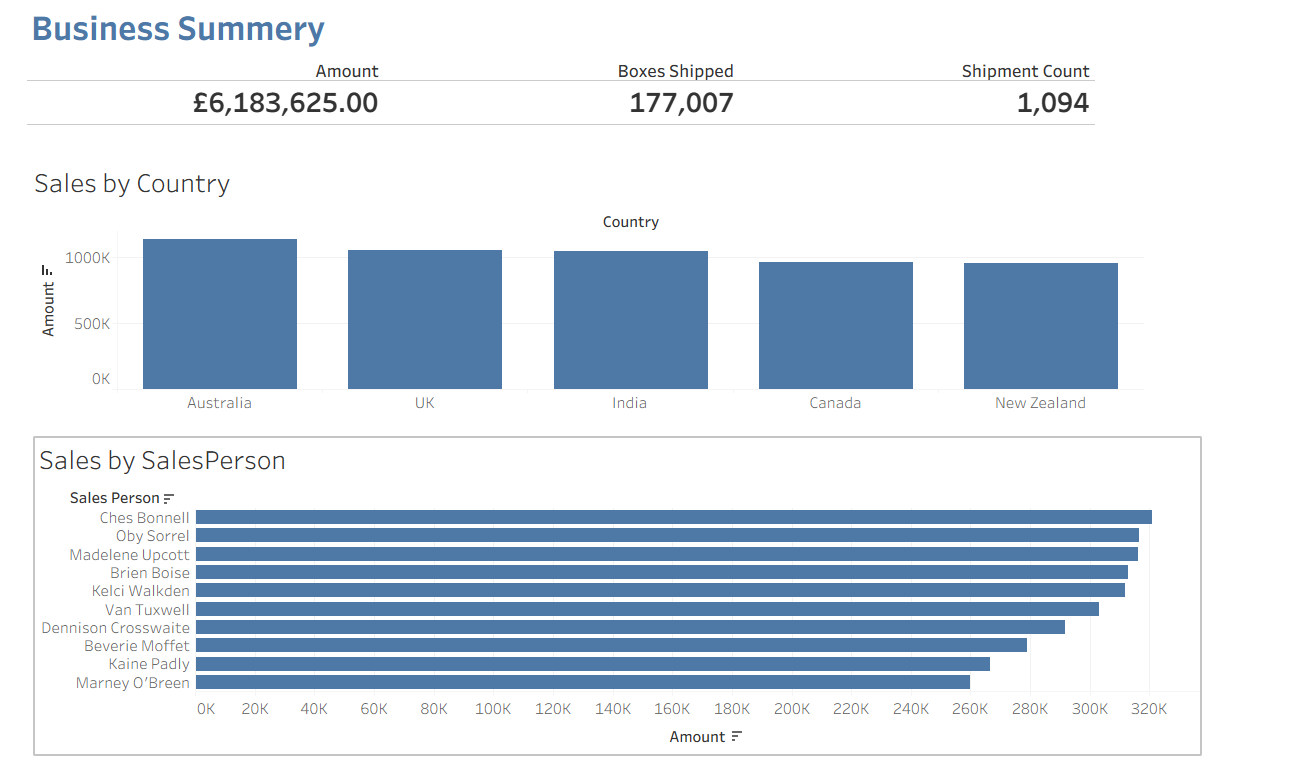

The dashboard page shown, as its layout file describes it:
{"tool":"tableau","page":{"name":"Dashboard 1","canvas":[1000,1000],"units":"permille","ordinal":0},"visuals":[{"type":"worksheet","title":"Sheet 3","mark":"Automatic","box":[43.5,31.2,644.5,156.1]},{"type":"worksheet","title":"Sheet 1","mark":"Automatic","rows":["Amount"],"cols":["Country"],"box":[45.3,232.2,672.3,334.6]},{"type":"worksheet","title":"Sheet 2","mark":"Automatic","rows":["Sales Person"],"cols":["Amount"],"box":[48.3,578,703.1,394.5]}]}

Visuals, with their boxes on the dashboard's canvas, which has no fixed pixel size, in thousandths of its width and height (x1, y1, x2, y2). These are canvas units, not pixel positions in the 1292x758 screenshot, which may show the page scaled, cropped or inside an application window:
"Sheet 3" worksheet: detection(44, 31, 688, 187)
"Sheet 1" worksheet: detection(45, 232, 718, 567)
"Sheet 2" worksheet: detection(48, 578, 751, 972)
